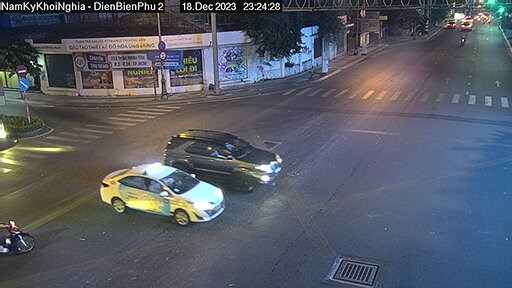car: (88, 159, 229, 235), (161, 119, 291, 189)
